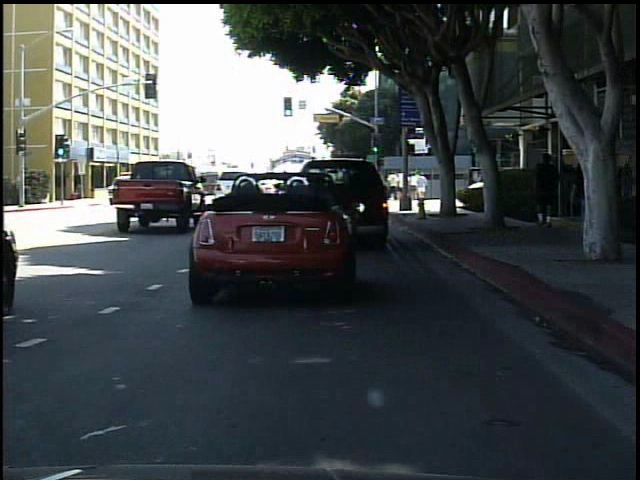person: (574, 138, 617, 256), (526, 149, 562, 230), (145, 173, 163, 202)
